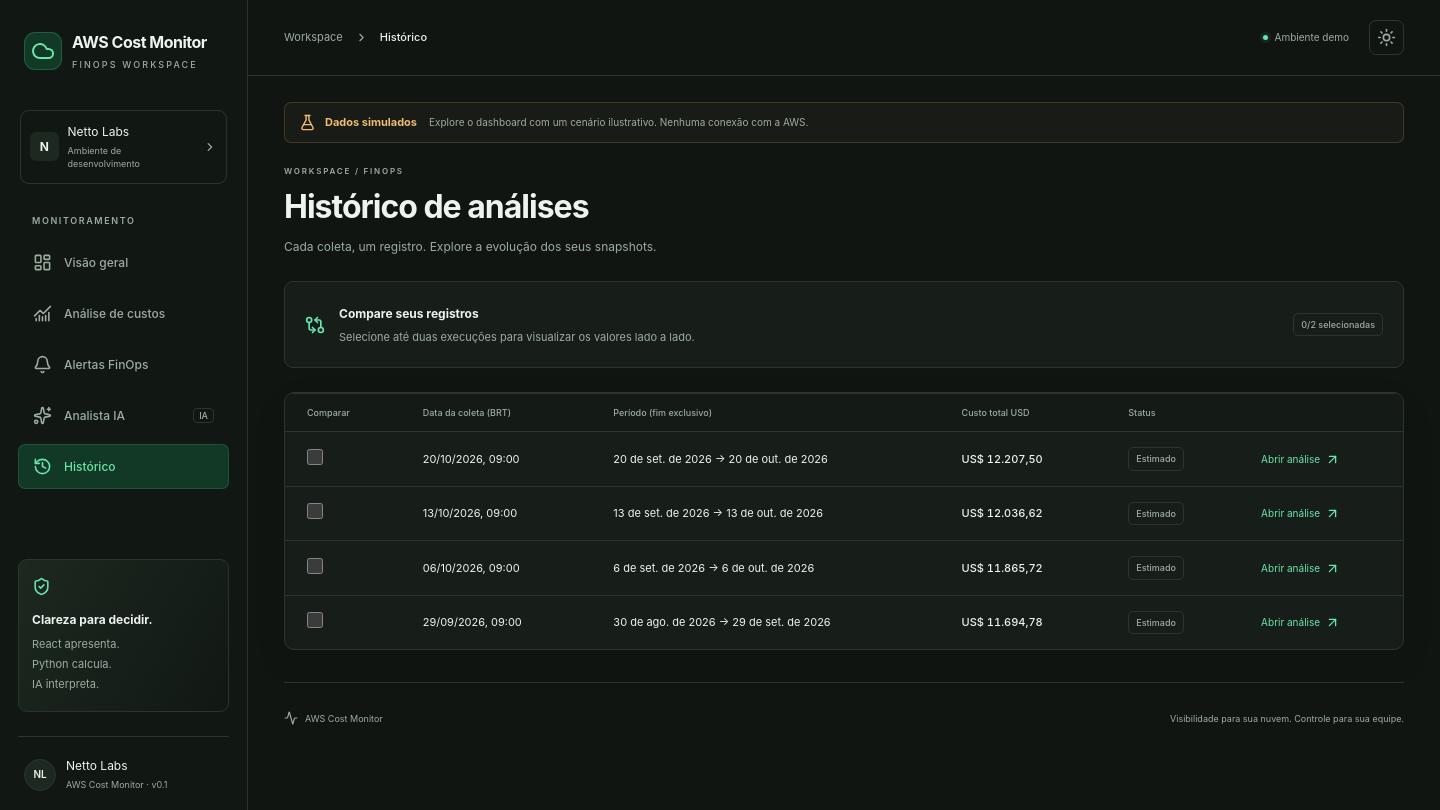
Scenario: dashboard flows › opens historical runs and compares two supplied totals side by side
Click the checkbox named "Comparar coleta de 20/10/2026, 09:00" at (315, 457), box [307,449,323,465]
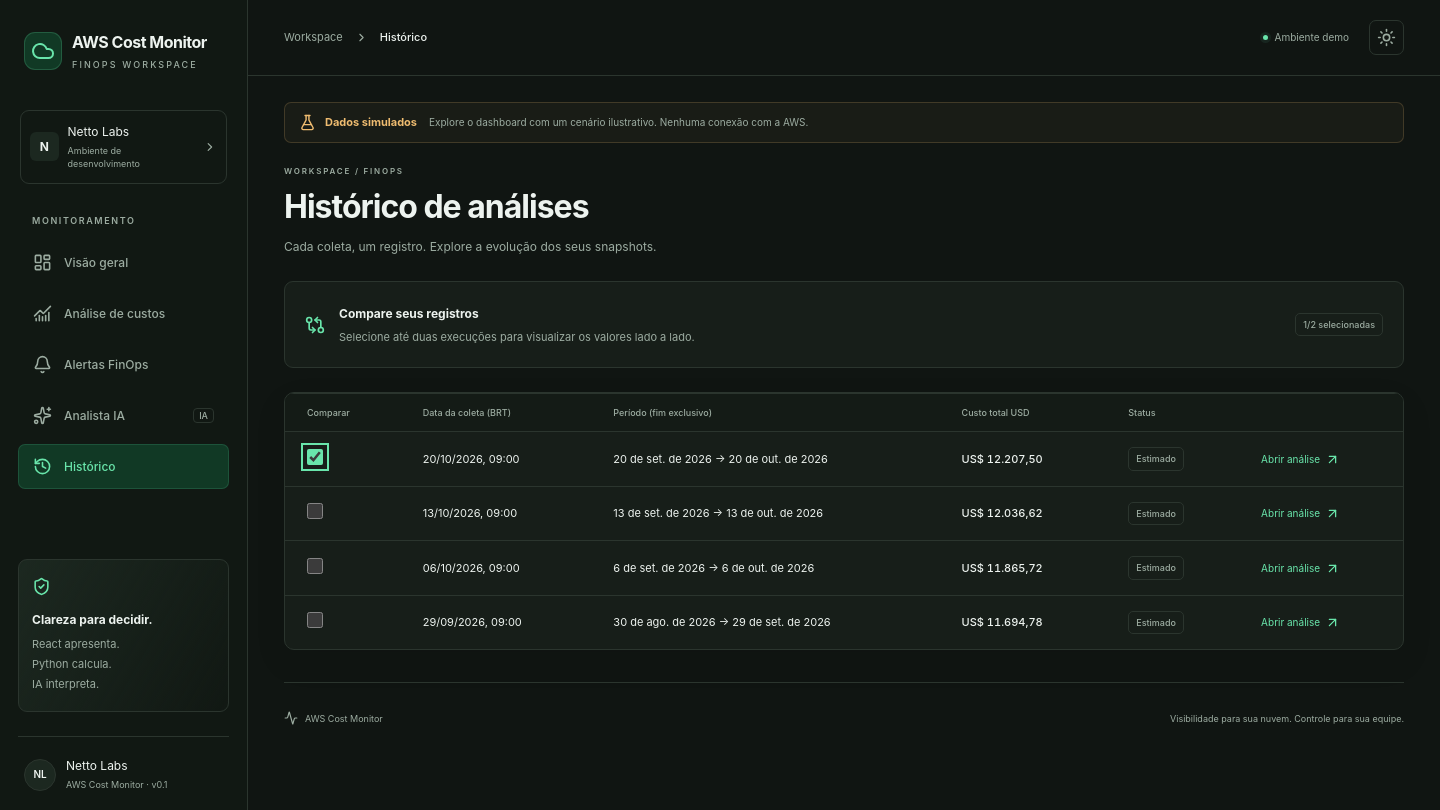
Click the checkbox named "Comparar coleta de 13/10/2026, 09:00" at (315, 512), box [307,504,323,520]
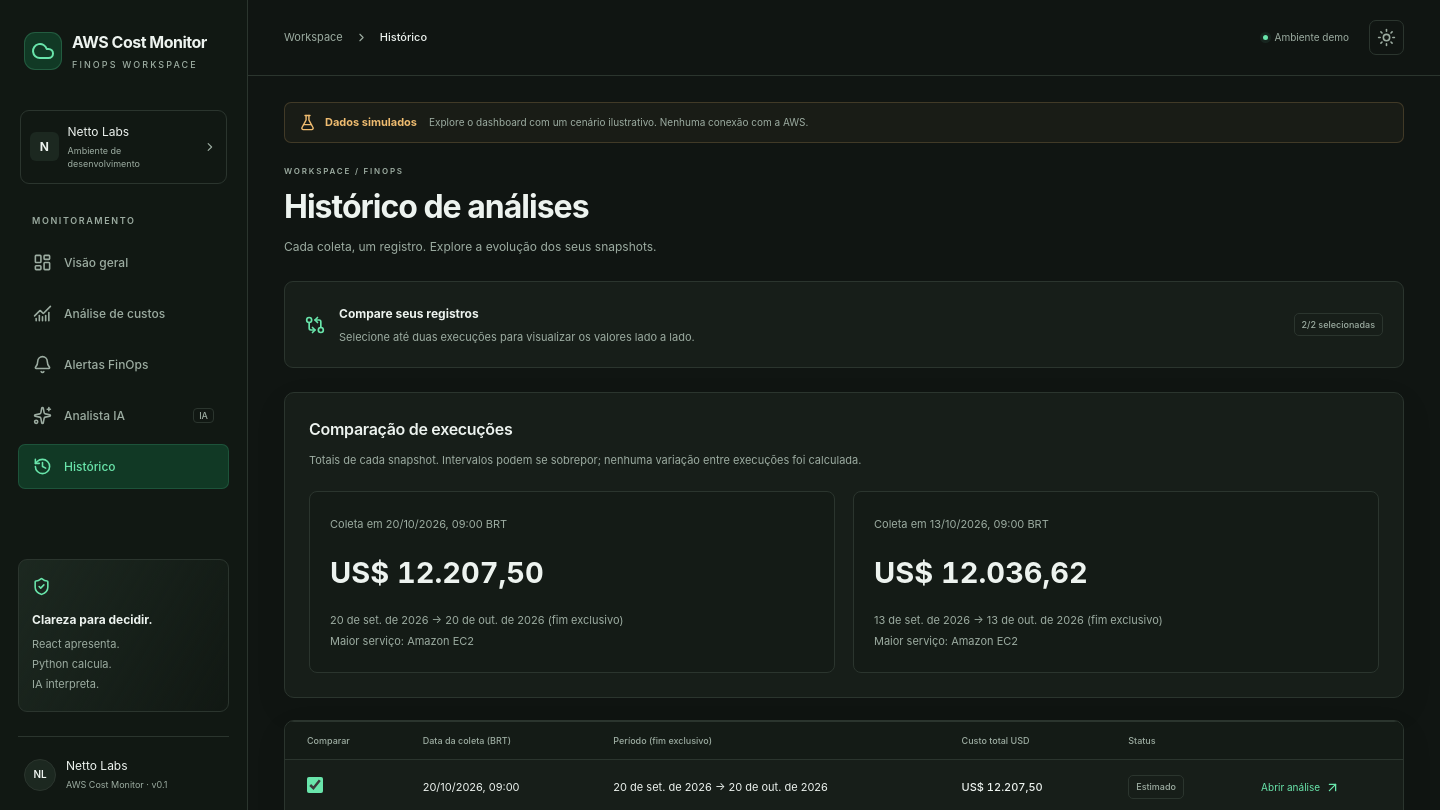
Expected: the element "Comparação de execuções" is shown, [284,392,1404,698]
Click the link "Abrir análise" at (1301, 788), box [1261,780,1340,795]
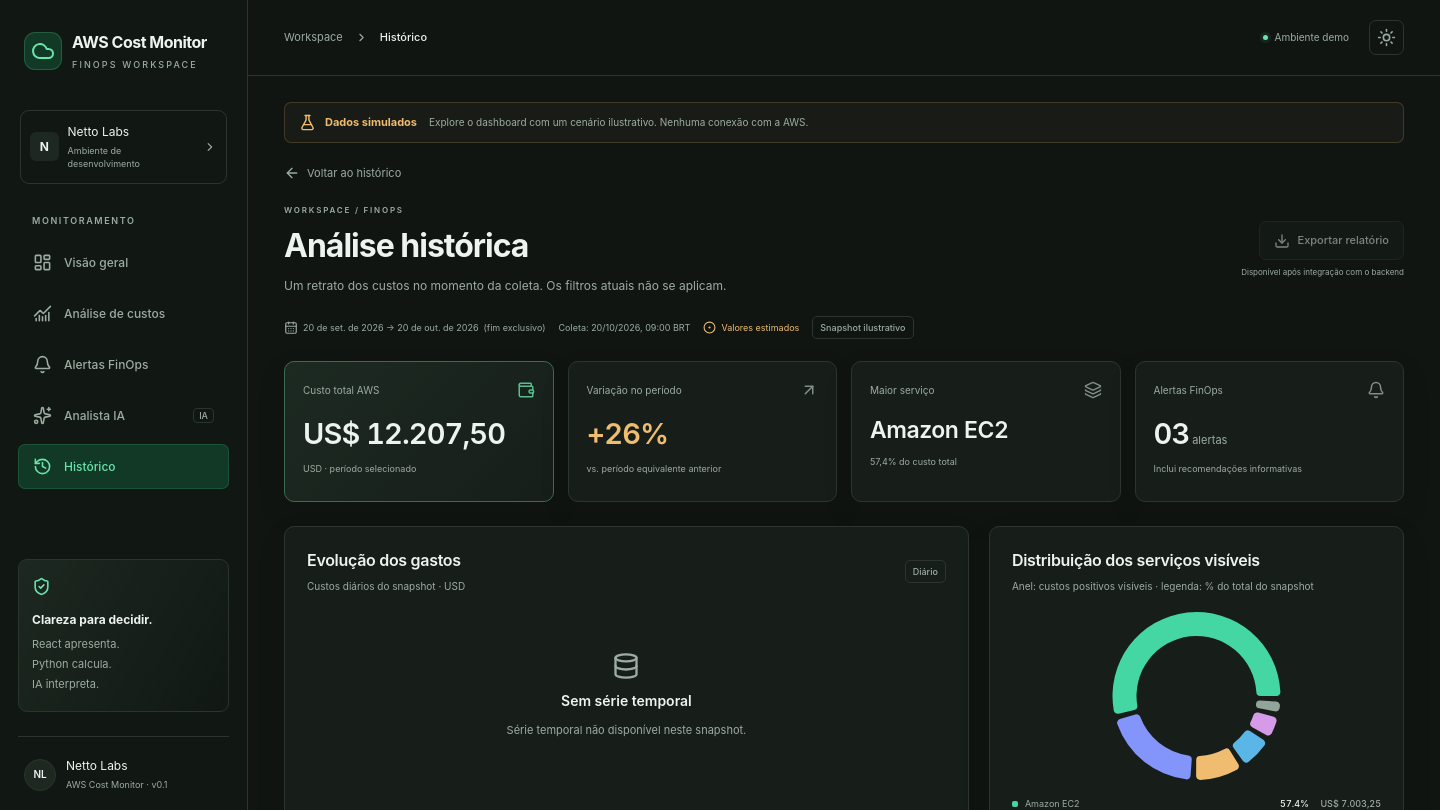
Expected: the heading "Análise histórica" is shown, [284,226,528,264]
Expected: the text "Série temporal não disponível neste snapshot." is shown, [507,721,746,741]
